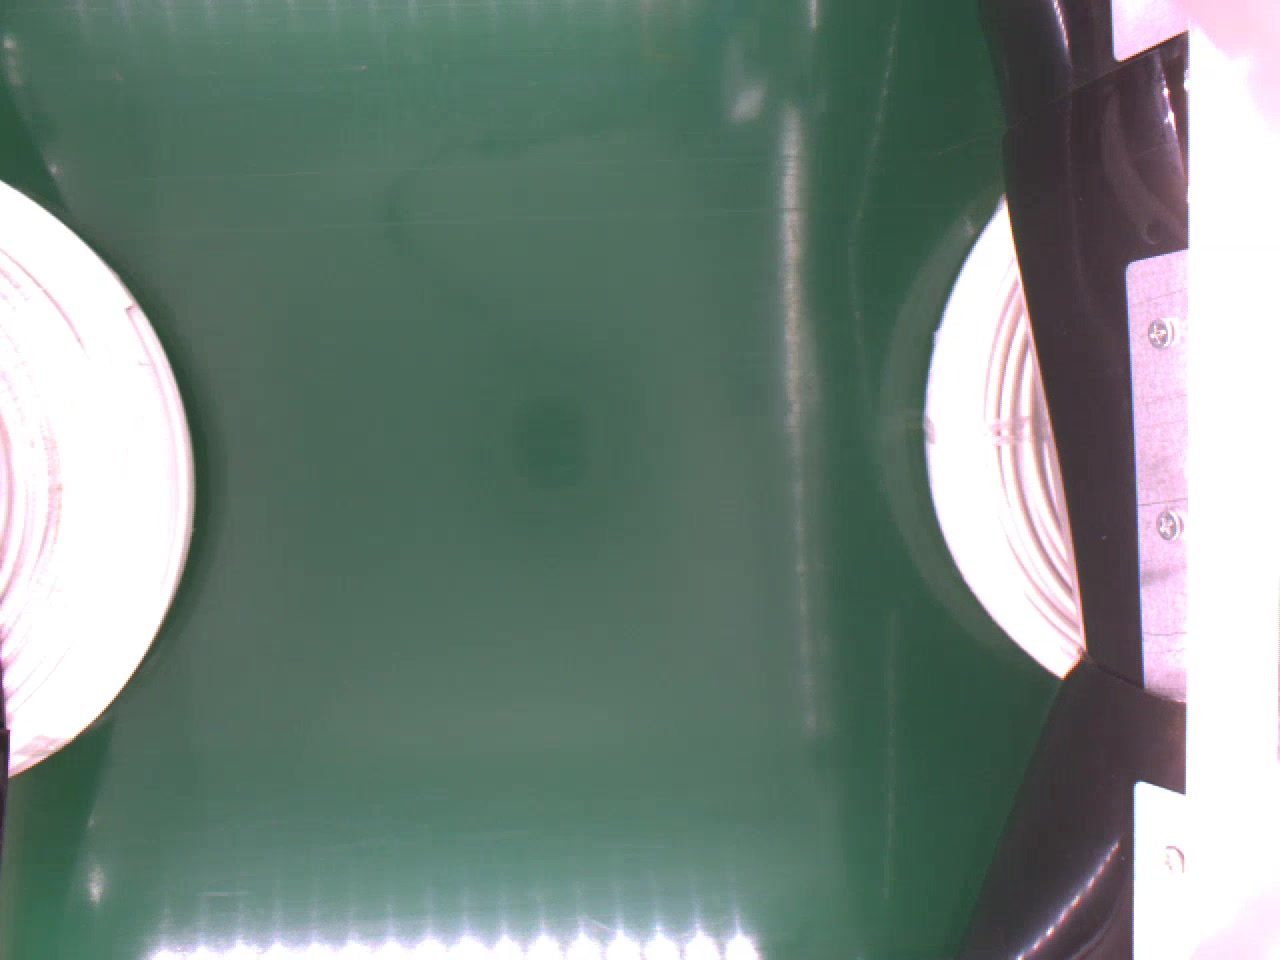white: (0, 170, 201, 782), (924, 193, 1079, 680)
